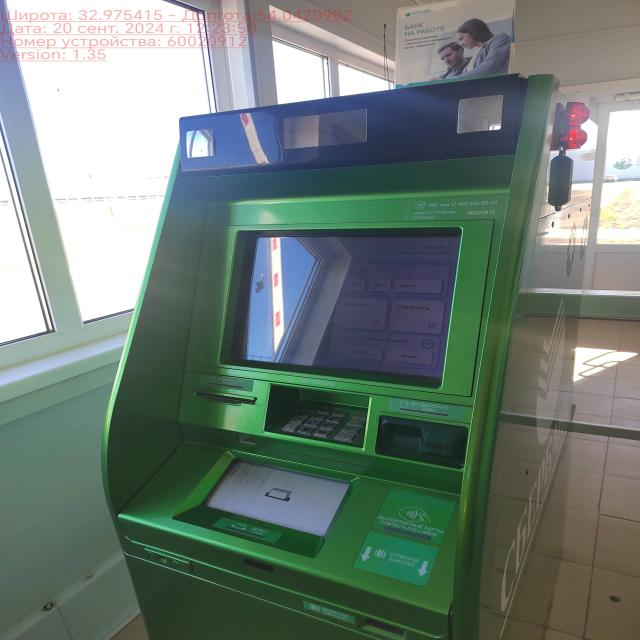bank: (96, 74, 588, 640)
